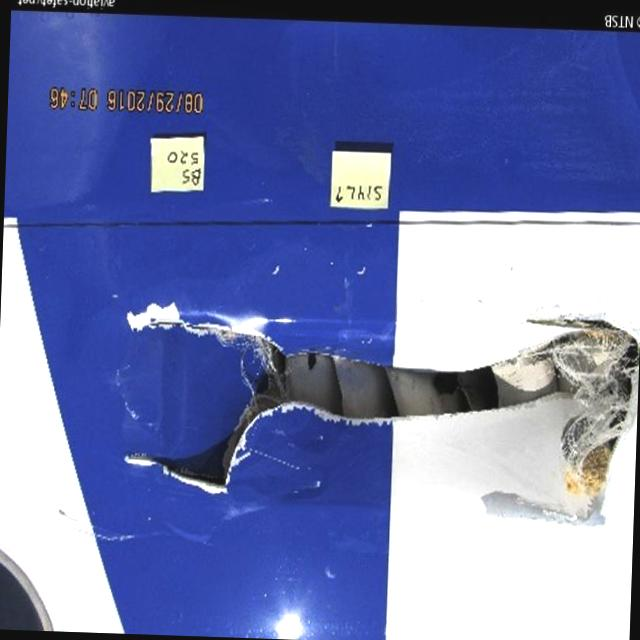crack: (120, 306, 228, 343)
